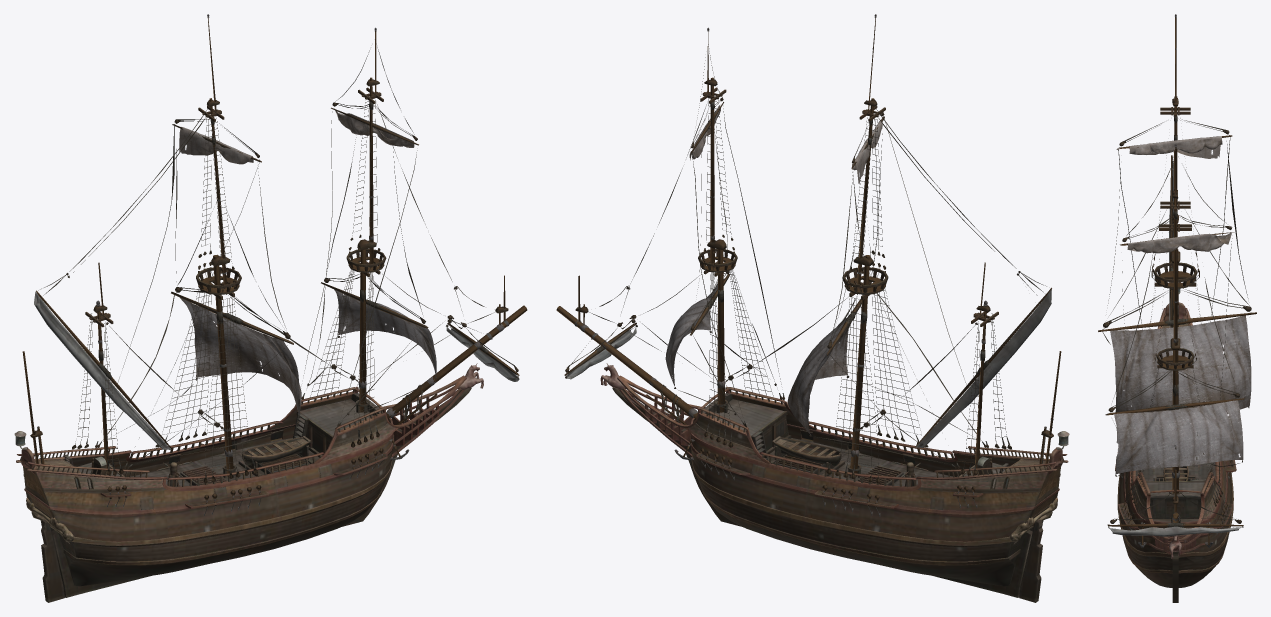
Rendered from ship.jpg-DM-DEuj2.glb.
3 renders of one model, left to right at view 1: azimuth 30°, elevation 25°; view 2: azimuth 150°, elevation 25°; view 3: azimuth 270°, elevation 25°, orthographic. The views are drawn at different scales.
Parts seen in each view (by area): view 1: dutch_ship_medium_hull, dutch_ship_medium_rigging, dutch_ship_medium_sails; view 2: dutch_ship_medium_hull, dutch_ship_medium_rigging, dutch_ship_medium_sails; view 3: dutch_ship_medium_sails, dutch_ship_medium_hull, dutch_ship_medium_rigging.
Boxes of the visible parts, x1,y1,x2,y2 form: dutch_ship_medium_hull: [14, 363, 483, 602]; dutch_ship_medium_rigging: [22, 14, 527, 515]; dutch_ship_medium_sails: [179, 108, 436, 418]; dutch_ship_medium_hull: [600, 363, 1069, 602]; dutch_ship_medium_rigging: [556, 14, 1061, 516]; dutch_ship_medium_sails: [665, 105, 882, 433]; dutch_ship_medium_sails: [1110, 136, 1251, 474]; dutch_ship_medium_hull: [1115, 282, 1236, 602]; dutch_ship_medium_rigging: [1098, 14, 1256, 547].
Bounding box in the file's own units: 24.07 × 24.66 × 6.8.
Materials: 3 (3 with a texture image).
